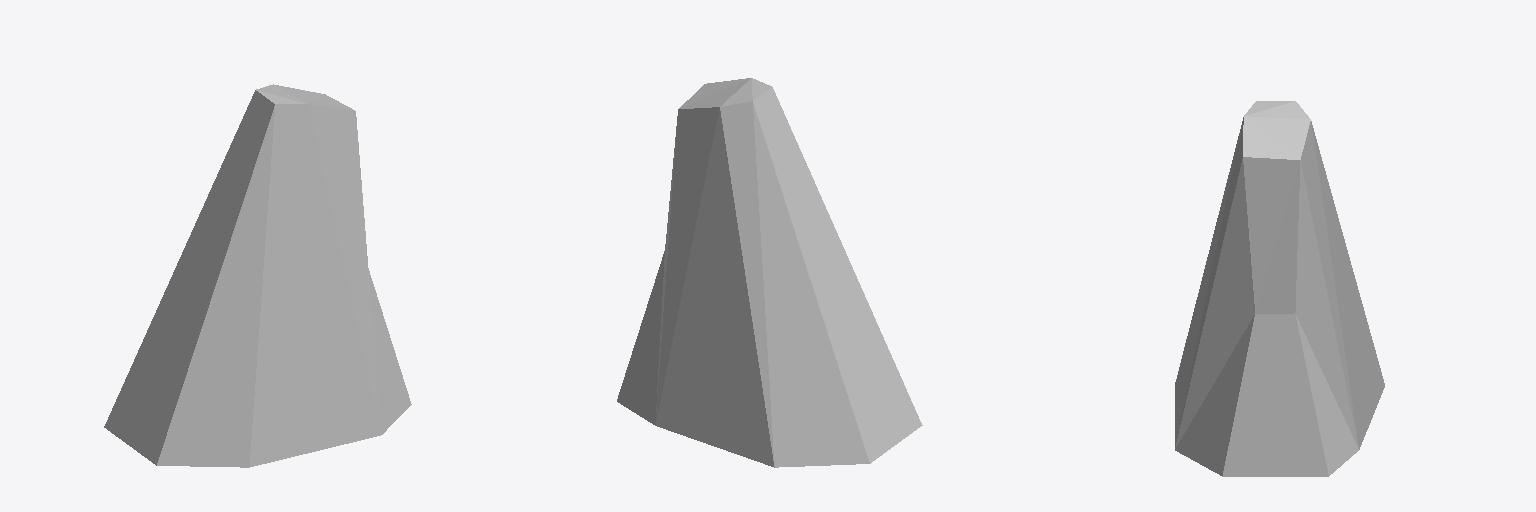
The model's file is skala_001.obj.
3 views of the same model, side by side, from view 1: azimuth 30°, elevation 25°; view 2: azimuth 150°, elevation 25°; view 3: azimuth 270°, elevation 25° (orthographic).
Parts seen in each view (by area): view 1: Скала.001; view 2: Скала.001; view 3: Скала.001.
Boxes of the visible parts, x1,y1,x2,y2 form: Скала.001: [104, 84, 411, 467]; Скала.001: [617, 78, 922, 467]; Скала.001: [1175, 101, 1384, 476].
Size of the model in its own units: 1.92 by 2.29 by 1.38.